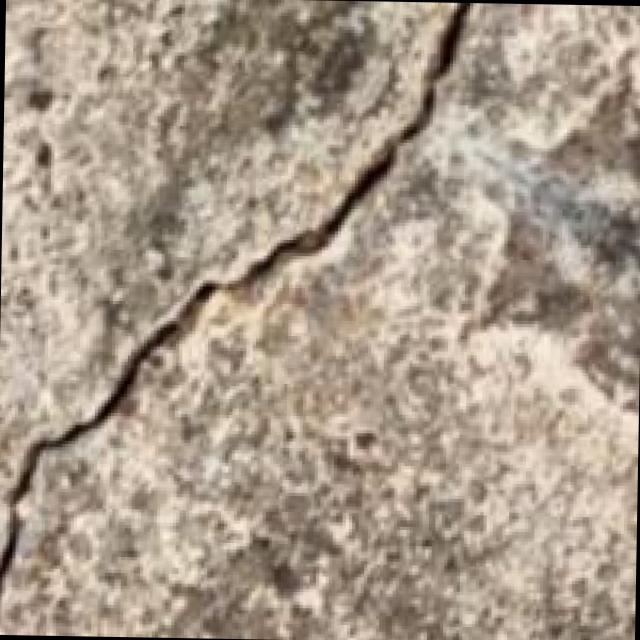crack: (0, 0, 494, 632)
